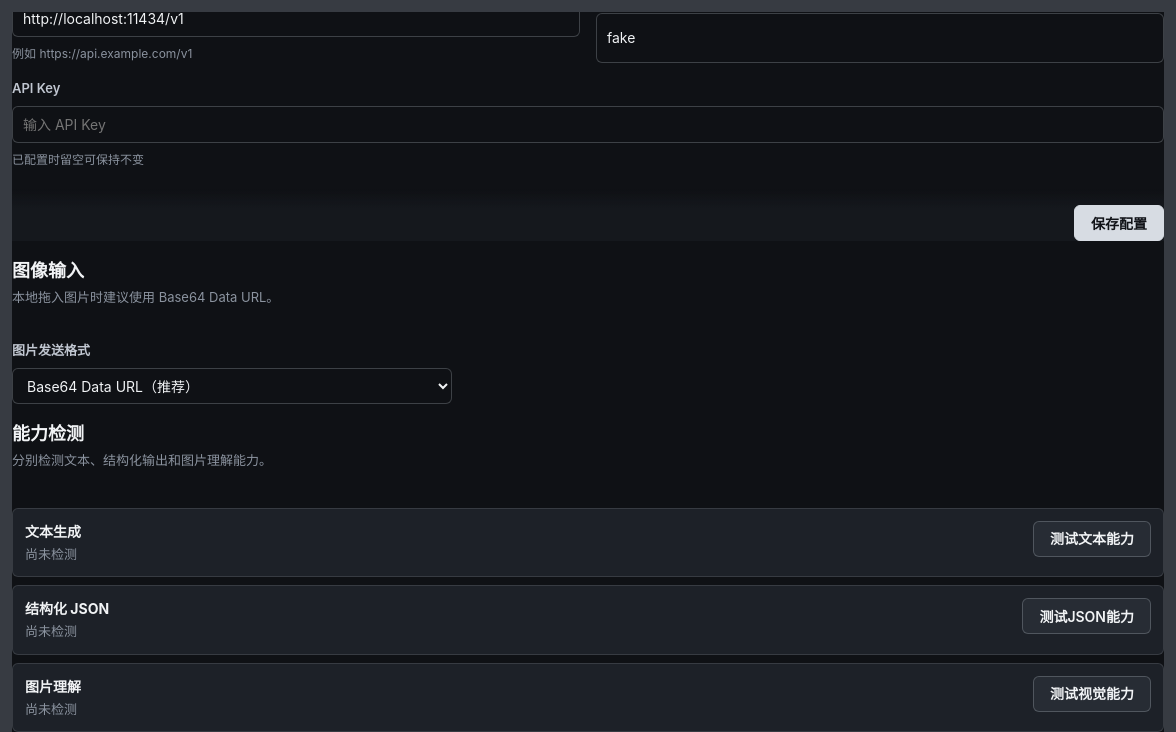
Scenario: ModelSettingsPanel › keeps full failure details collapsed until requested
The image size is (1176, 732).
(page scrolled)
Click the button "测试视觉能力".
click(1092, 694)  # box [1033,676,1151,712]
(page scrolled)
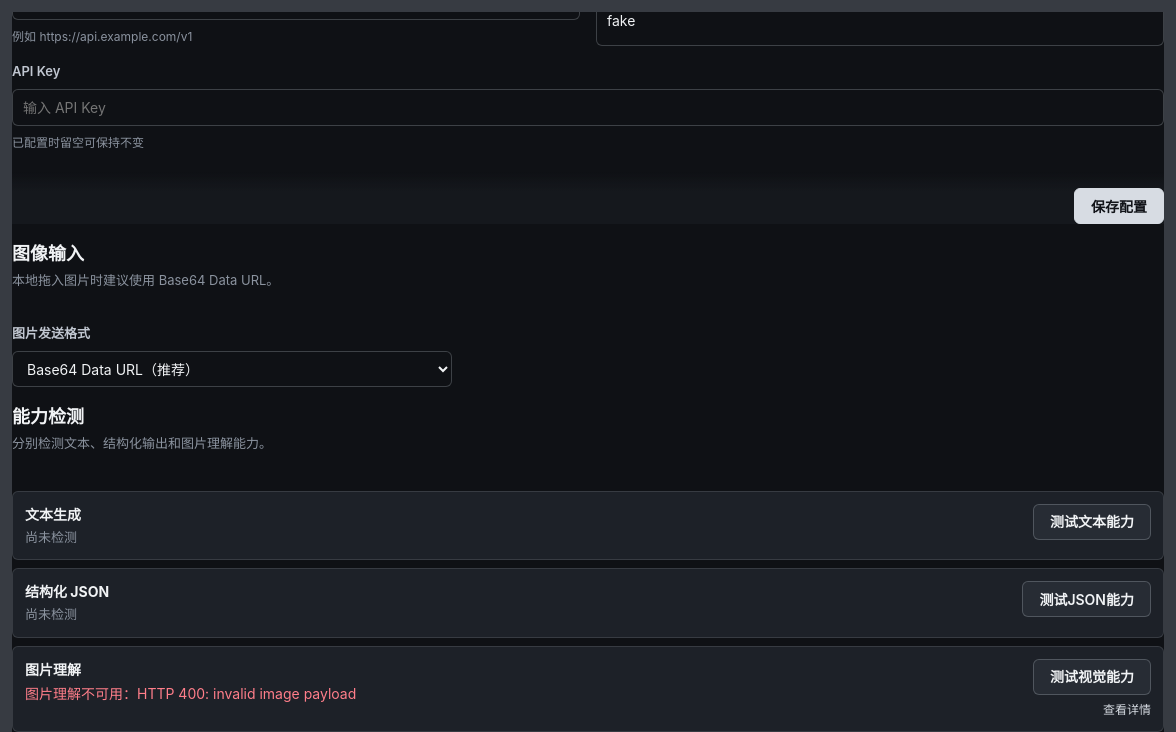
Expected: the text "provider detail" is not shown
Expected: the text "图片理解不可用：HTTP 400: invalid image payload" is shown, [25,684,356,702]
Click the button "查看详情".
click(1127, 710)  # box [1103,700,1151,718]
(page scrolled)
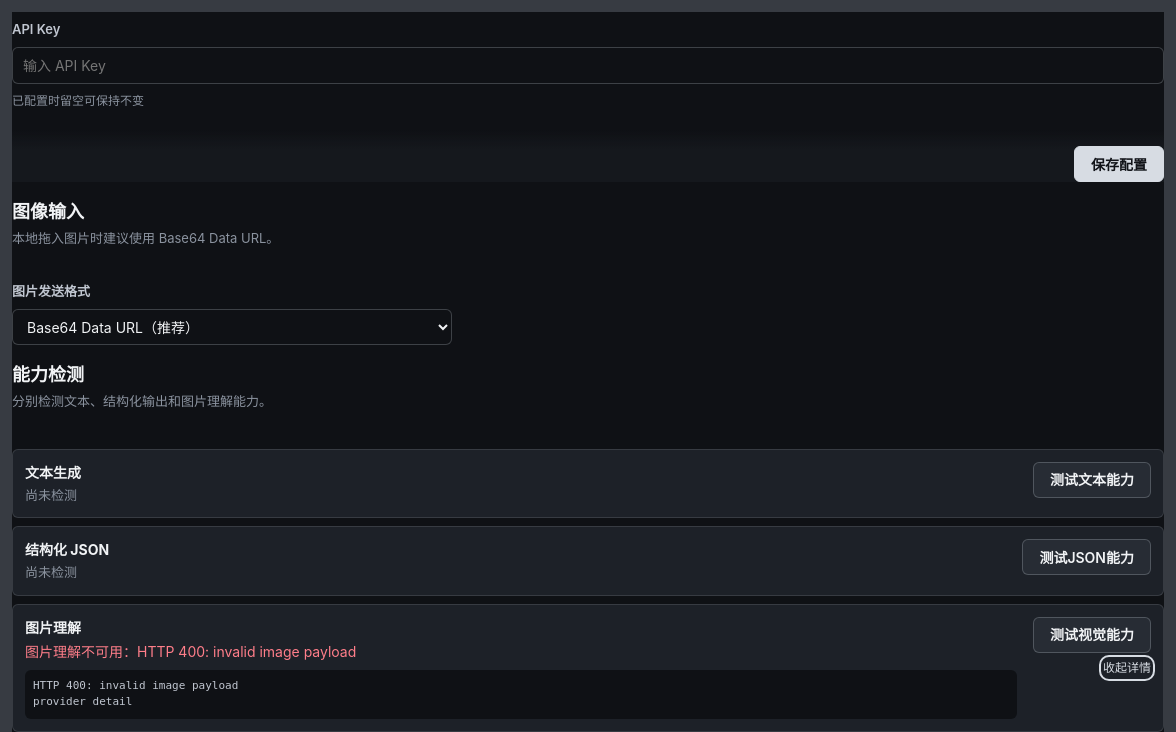
Expected: the text "HTTP 400: invalid image payload provider detail" is shown, [25,670,1017,718]
